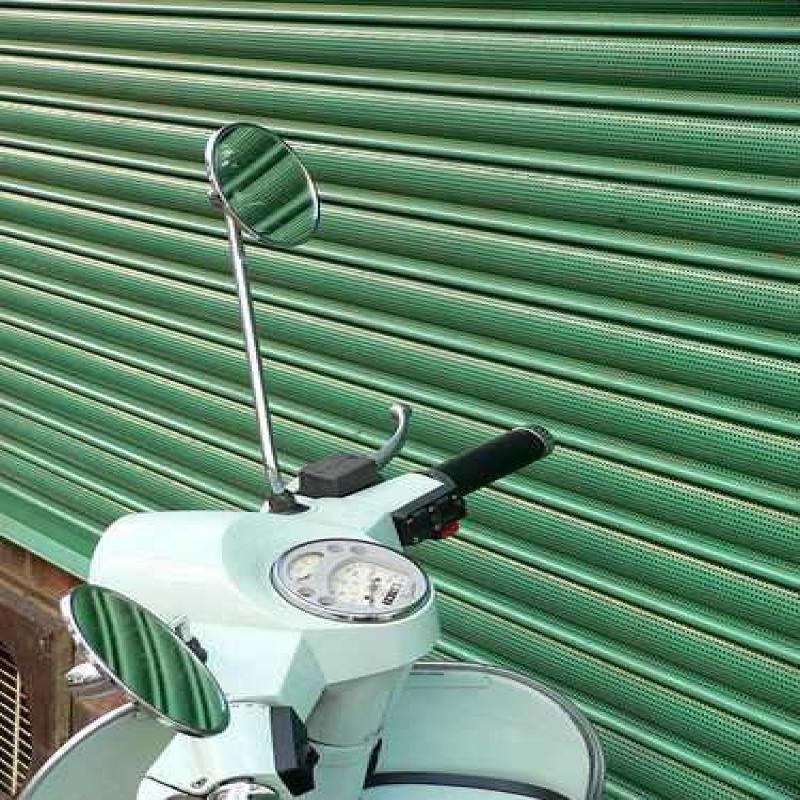bike: (0, 116, 603, 800)
